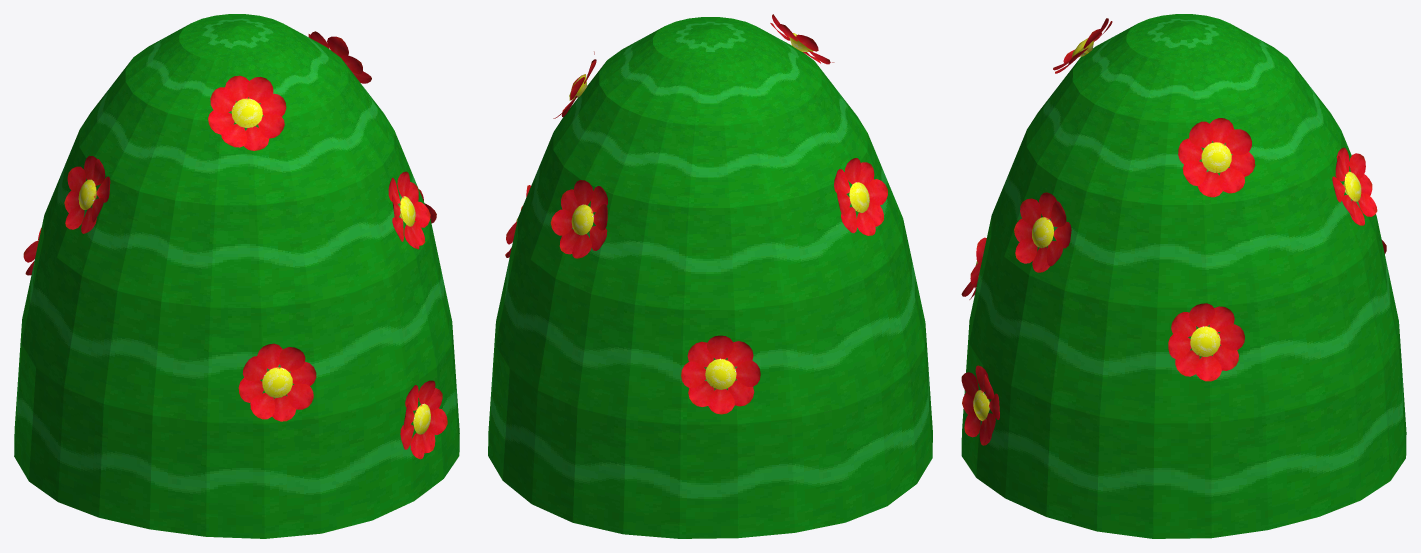
File: ArbustoGrande.obj
3 views of the same model, side by side, from view 1: azimuth 30°, elevation 25°; view 2: azimuth 150°, elevation 25°; view 3: azimuth 270°, elevation 25° (orthographic).
Visible parts, largest first — view 1: polySurface61; view 2: polySurface61; view 3: polySurface61.
Boxes of the visible parts, x1,y1,x2,y2 form: polySurface61: (14,14,459,538); polySurface61: (488,14,932,538); polySurface61: (961,14,1406,538).
Size of the model in its own units: 1.42 by 1.48 by 1.42.
Materials: 2 (2 with a texture image).
